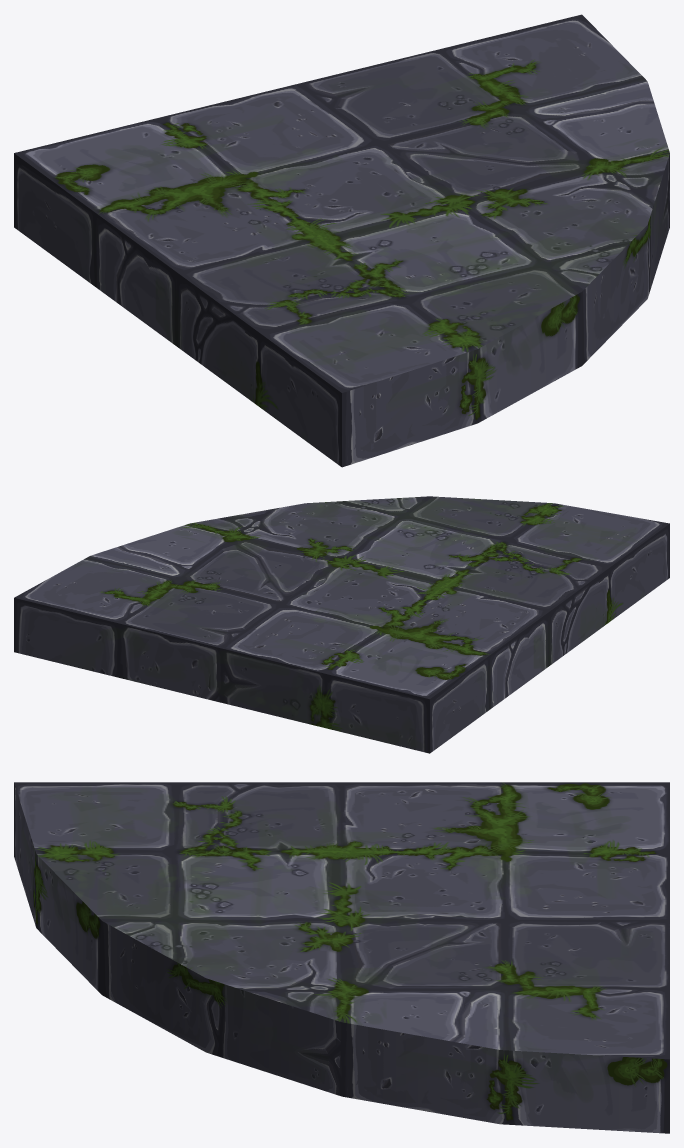
File: MOD_Floor_01_E_convex_med.fbx
The picture shows the model from 3 angles, top to bottom: view 1: azimuth 30°, elevation 25°; view 2: azimuth 150°, elevation 25°; view 3: azimuth 270°, elevation 25°; orthographic projection. The views are drawn at different scales.
Visible parts, largest first — view 1: MOD_Floor_01_E_convex_med; view 2: MOD_Floor_01_E_convex_med; view 3: MOD_Floor_01_E_convex_med.
Boxes of the visible parts, bbox=[...] form: MOD_Floor_01_E_convex_med: bbox=[14, 14, 669, 467]; MOD_Floor_01_E_convex_med: bbox=[14, 496, 669, 753]; MOD_Floor_01_E_convex_med: bbox=[14, 782, 669, 1133].
Size of the model in its own units: 400 by 50 by 400.
